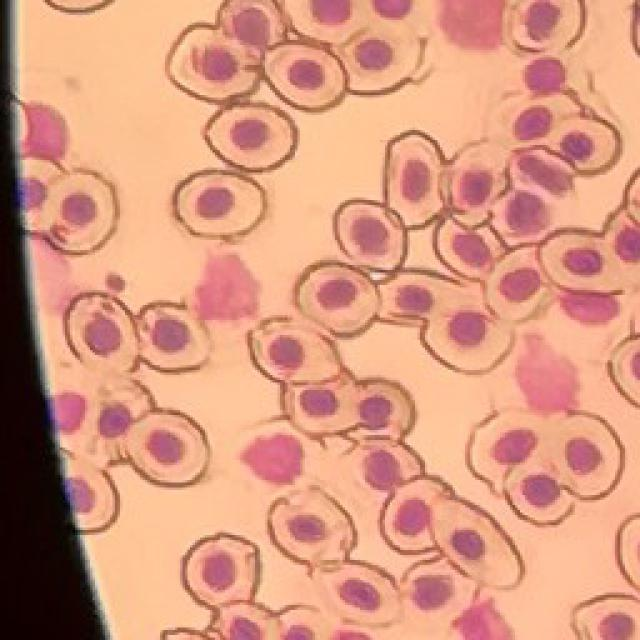RBC: (430, 495, 524, 588), (269, 488, 356, 573), (169, 24, 261, 101), (546, 411, 624, 499), (466, 410, 544, 494), (42, 169, 119, 254), (125, 409, 209, 486), (421, 305, 514, 373), (204, 104, 298, 171), (174, 170, 266, 238), (296, 262, 380, 336), (87, 379, 158, 466), (482, 90, 584, 150), (249, 318, 341, 384), (400, 559, 478, 636), (64, 292, 139, 372), (338, 22, 420, 94), (182, 534, 260, 609), (314, 560, 400, 626), (385, 131, 444, 227), (380, 476, 451, 554), (264, 42, 345, 110), (334, 200, 408, 271), (136, 301, 210, 371), (540, 230, 622, 293), (449, 141, 508, 227), (285, 371, 361, 436), (60, 449, 119, 532), (485, 246, 550, 321), (379, 270, 461, 326), (505, 462, 574, 525), (506, 144, 576, 206), (504, 0, 585, 52), (435, 219, 504, 279), (552, 115, 620, 173), (350, 439, 424, 492), (351, 379, 414, 440), (491, 189, 551, 248), (284, 0, 366, 43), (19, 156, 64, 232), (219, 0, 285, 50), (572, 594, 640, 640), (211, 601, 279, 640), (609, 334, 640, 406), (603, 208, 640, 265), (278, 605, 328, 640), (618, 514, 640, 589)
WBC: (515, 334, 579, 412), (195, 254, 259, 320), (241, 432, 302, 484), (440, 0, 503, 48), (21, 102, 68, 160), (454, 599, 512, 640), (559, 291, 619, 323), (525, 58, 565, 94), (55, 392, 86, 432)
